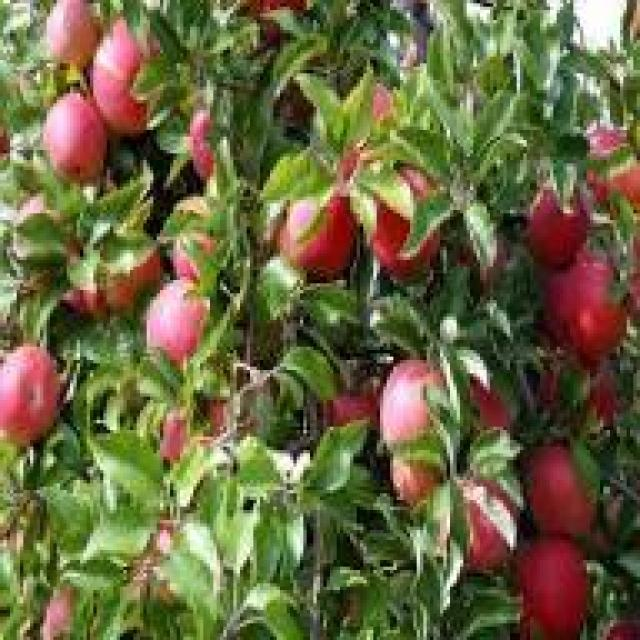apple: (430, 470, 527, 577), (354, 167, 444, 280), (283, 187, 367, 283), (524, 436, 604, 536), (560, 243, 627, 357), (510, 533, 590, 620), (387, 357, 453, 460), (93, 13, 157, 114), (523, 174, 590, 264), (147, 273, 203, 370), (43, 100, 107, 180)
